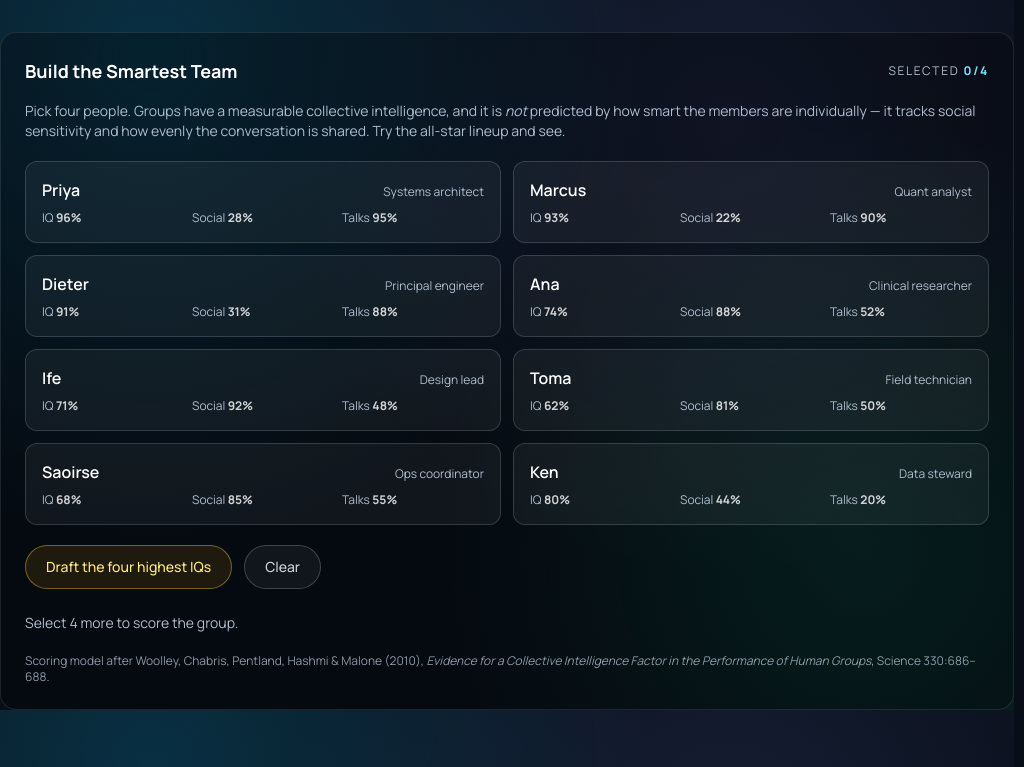
Test: CollectiveIntelligenceGame › "Clear" resets the selection back to the hint state
The width and height of the screenshot is (1024, 767).
Click the button with test id "ci-allstars" at (129, 567), box [25,545,232,589]
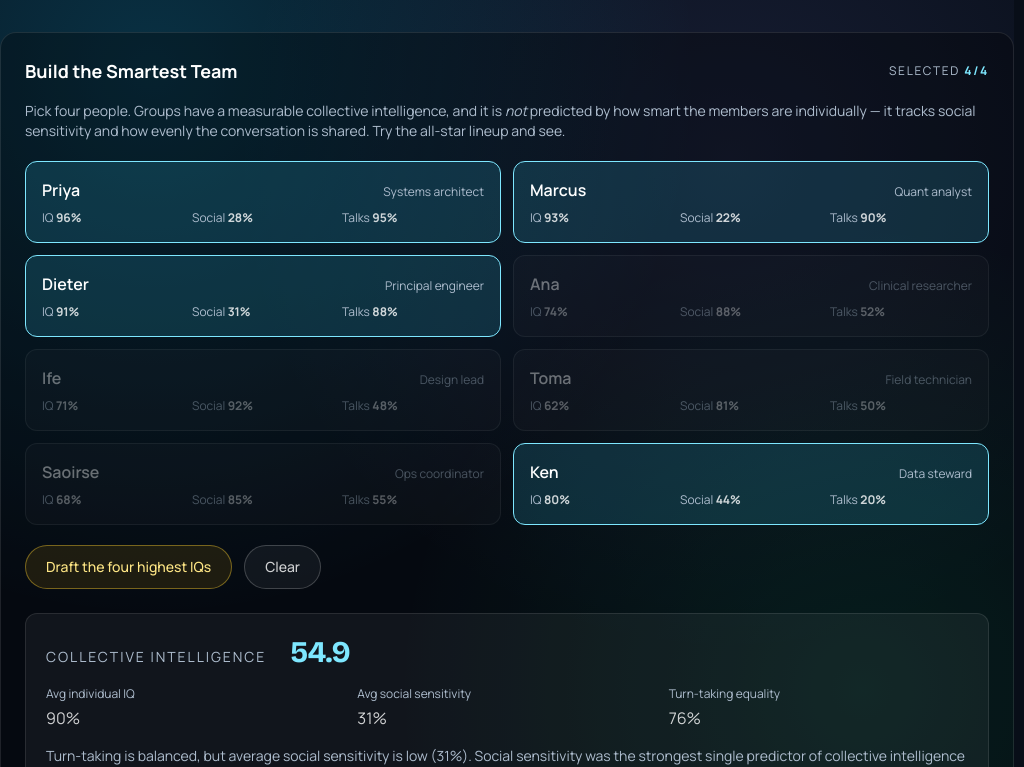
Click the button with test id "ci-reset" at (283, 567), box [244,545,321,589]
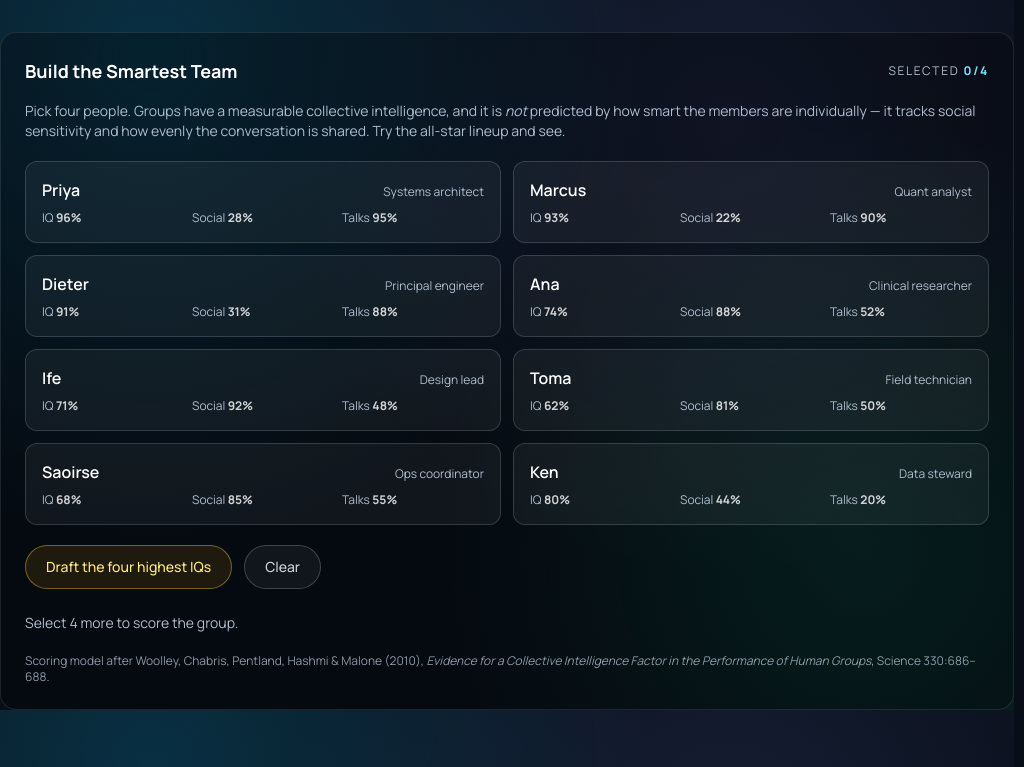
Expected: the text with test id "ci-count" reads "0/4", [964,62,989,79]
